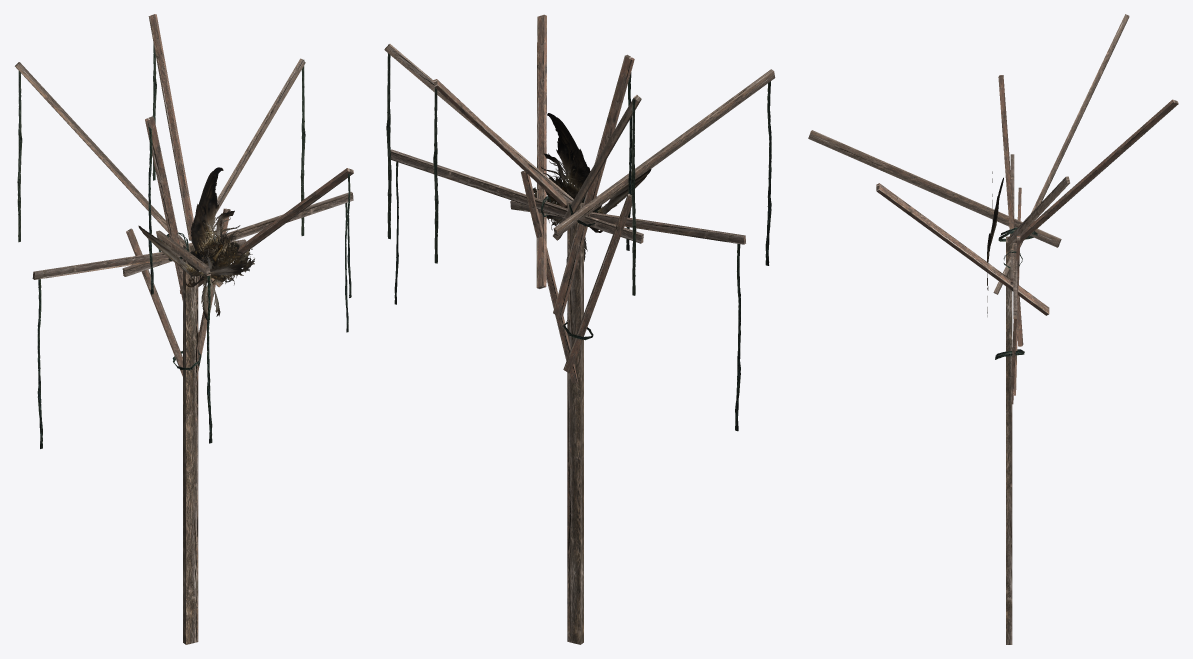
File: chicken_effigy.fbx
The picture shows the model from 3 angles, left to right: view 1: azimuth 30°, elevation 25°; view 2: azimuth 150°, elevation 25°; view 3: azimuth 270°, elevation 25°; orthographic projection. The views are drawn at different scales.
Visible parts, largest first — view 1: chicken_effigy; view 2: chicken_effigy; view 3: chicken_effigy.
Boxes of the visible parts, bbox=[...] form: chicken_effigy: bbox=[15, 14, 353, 644]; chicken_effigy: bbox=[384, 14, 775, 644]; chicken_effigy: bbox=[808, 14, 1178, 644].
Size of the model in its own units: 244 by 407 by 239.
